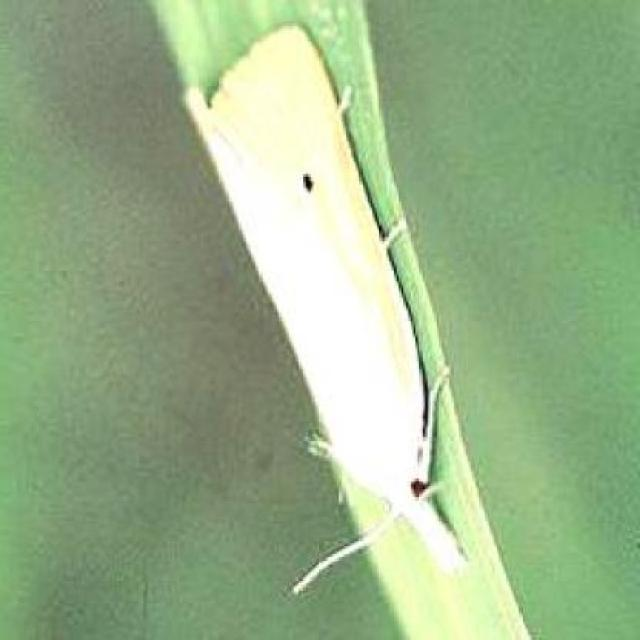stem-borer: (182, 23, 469, 594)
